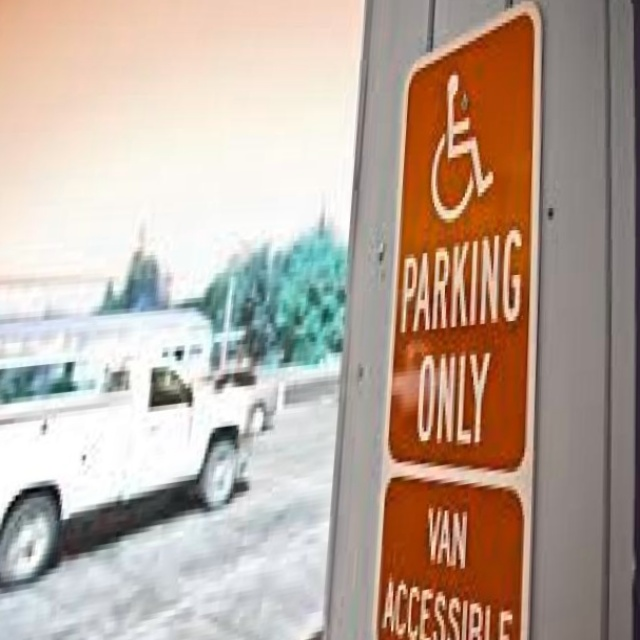ISA: (429, 77, 498, 224)
